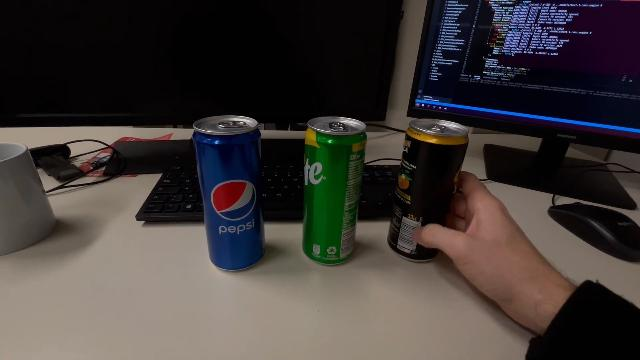OranSoda: (386, 118, 469, 264)
Pepsi: (192, 113, 266, 275)
Sprite: (302, 116, 370, 268)
